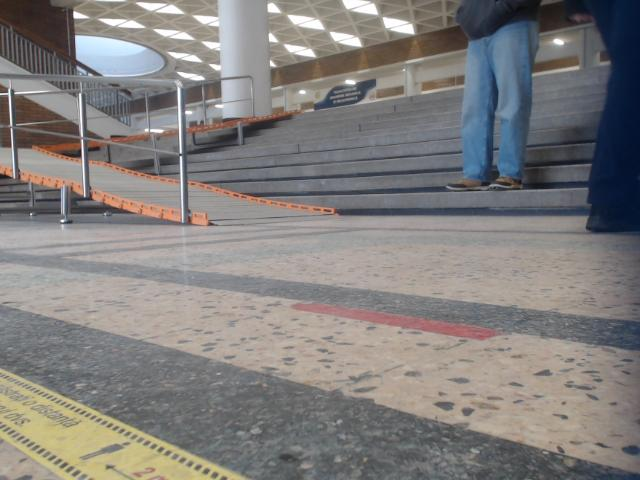rampUp: (189, 182, 328, 224), (87, 162, 179, 221), (20, 149, 81, 193), (0, 148, 11, 174)
ramps-railing: (35, 75, 111, 197), (31, 73, 210, 90), (0, 85, 23, 177), (176, 81, 189, 223), (61, 134, 122, 145), (0, 73, 27, 79), (124, 145, 156, 150), (159, 150, 172, 152)
